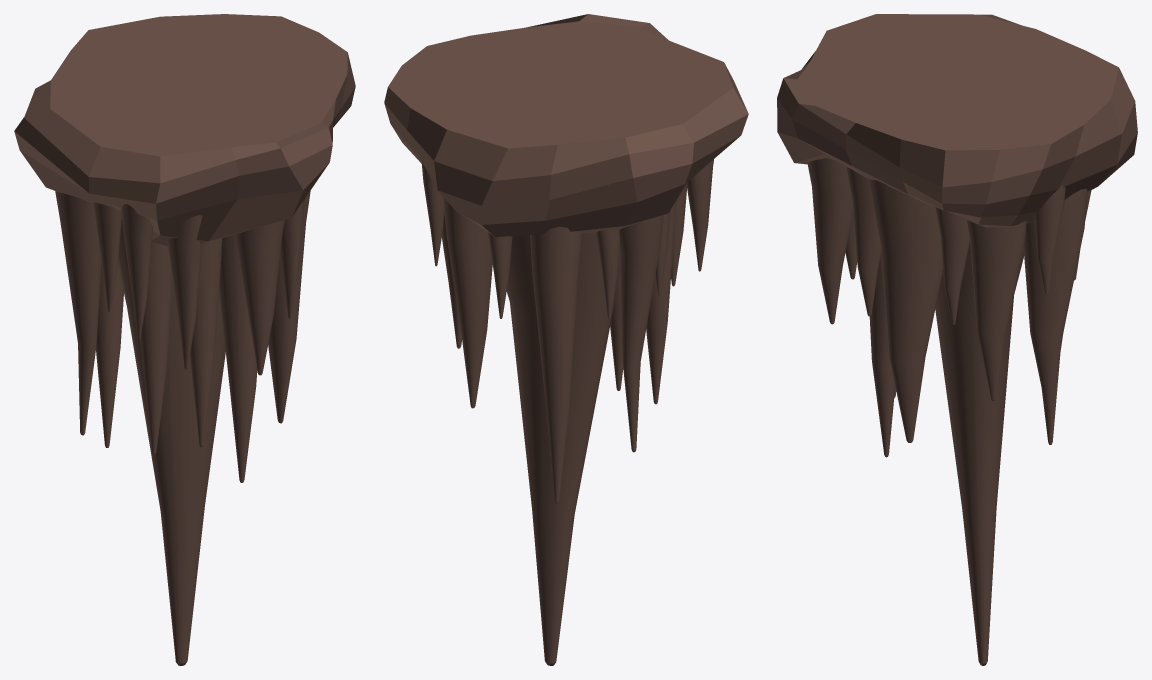
Rendered from Stalactite_Cluster.fbx.
3 renders of one model, left to right at view 1: azimuth 30°, elevation 25°; view 2: azimuth 150°, elevation 25°; view 3: azimuth 270°, elevation 25°, orthographic. The views are drawn at different scales.
Parts seen in each view (by area): view 1: Stalactite_Cluster; view 2: Stalactite_Cluster; view 3: Stalactite_Cluster.
Part boxes in pixels (left/top/right/bottom): Stalactite_Cluster: left=14, top=14, right=355, bottom=665; Stalactite_Cluster: left=384, top=14, right=748, bottom=665; Stalactite_Cluster: left=777, top=14, right=1137, bottom=665.
Bounding box in the file's own units: 2.56 × 2.56 × 4.6.
